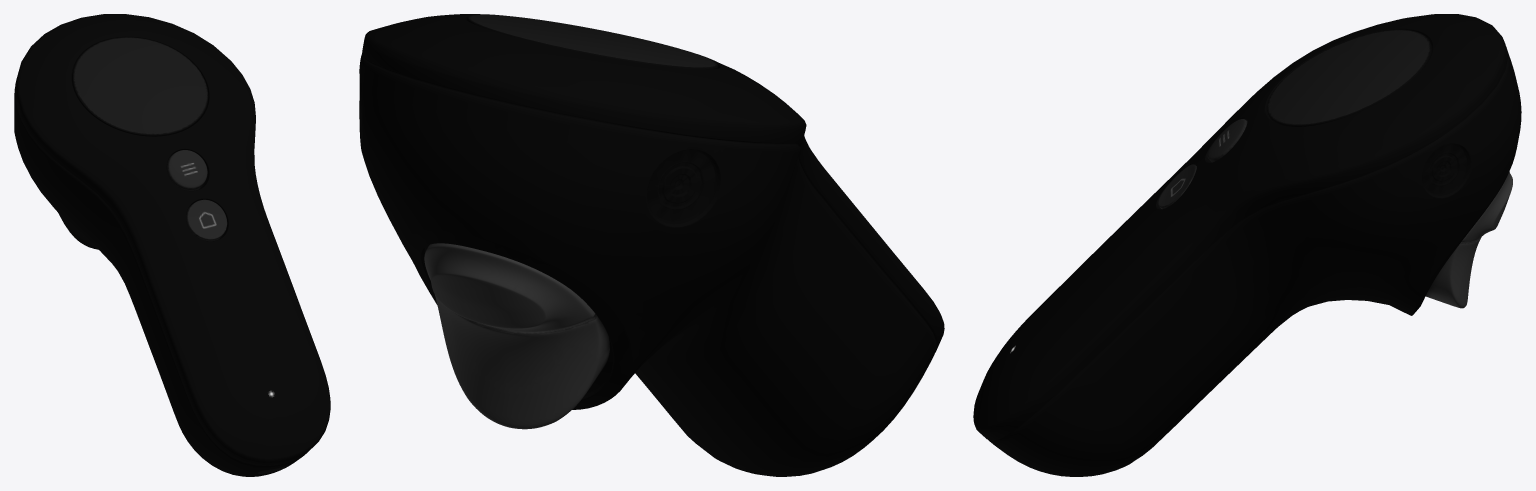
Rendered from ML2-Controller.glb.
The picture shows the model from 3 angles, left to right: view 1: azimuth 30°, elevation 25°; view 2: azimuth 150°, elevation 25°; view 3: azimuth 270°, elevation 25°; orthographic projection. The views are drawn at different scales.
Visible parts, largest first — view 1: Control_Body, Control_Pad, Control_HomeButton, Control_Menu; view 2: Control_Body, Control_Trigger, Control_Bumper, Control_Pad; view 3: Control_Body, Control_Pad, Control_Trigger, Control_Bumper, Control_Menu, Control_HomeButton.
Part boxes in pixels (left/top/right/bottom): Control_Body: left=14, top=14, right=330, bottom=476; Control_Pad: left=72, top=37, right=208, bottom=136; Control_HomeButton: left=186, top=199, right=227, bottom=241; Control_Menu: left=167, top=150, right=207, bottom=190; Control_Body: left=359, top=14, right=944, bottom=476; Control_Trigger: left=435, top=295, right=609, bottom=429; Control_Bumper: left=424, top=243, right=595, bottom=331; Control_Pad: left=467, top=14, right=718, bottom=69; Control_Body: left=973, top=14, right=1521, bottom=476; Control_Pad: left=1267, top=29, right=1432, bottom=126; Control_Trigger: left=1425, top=237, right=1481, bottom=308; Control_Bumper: left=1462, top=171, right=1512, bottom=241; Control_Menu: left=1207, top=119, right=1247, bottom=162; Control_HomeButton: left=1158, top=164, right=1196, bottom=209.
Size of the model in its own units: 0.0619 by 0.0929 by 0.1081.
2 materials, 1 textured.
